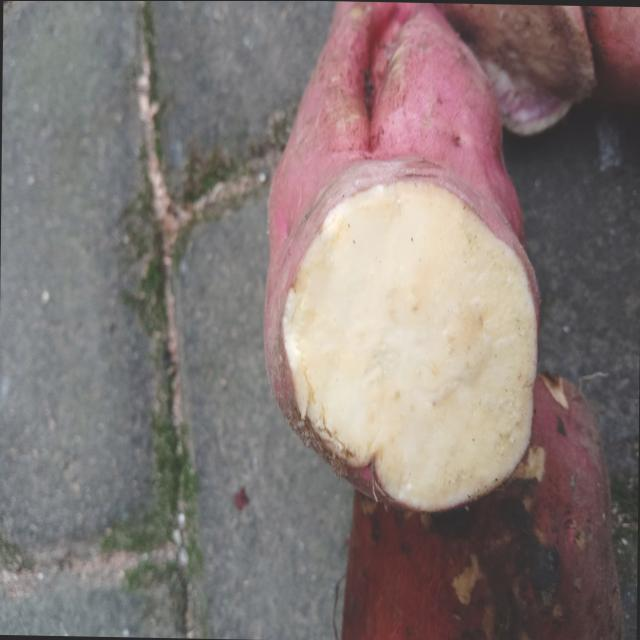Healthy Sweet Potato: (284, 180, 536, 510)
